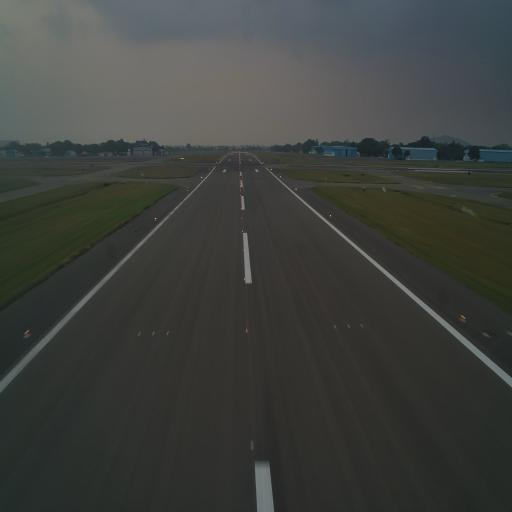on: (459, 311, 468, 324), (248, 438, 256, 452), (24, 328, 32, 340), (346, 321, 352, 333), (333, 322, 338, 331), (137, 331, 142, 339), (359, 321, 364, 329), (151, 331, 155, 339), (166, 330, 170, 337), (245, 327, 248, 336), (328, 213, 332, 219), (154, 217, 158, 222), (241, 229, 244, 235), (244, 276, 246, 282), (242, 247, 244, 253), (240, 216, 243, 220)
